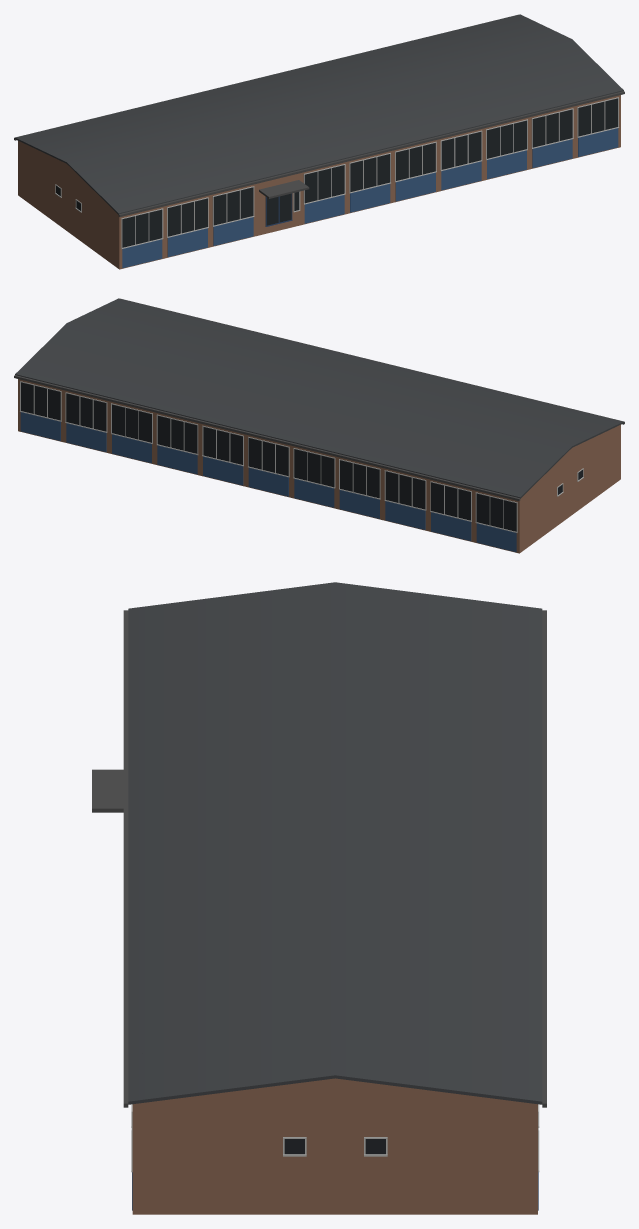
Rendered from context.school.sixties_school.glb.
The picture shows the model from 3 angles, top to bottom: view 1: azimuth 30°, elevation 25°; view 2: azimuth 150°, elevation 25°; view 3: azimuth 270°, elevation 25°; orthographic projection. The views are drawn at different scales.
Visible parts, largest first — view 1: main__clad_444, main__paint_223, main__brick_975, main__paint_468, main__paint_ccc, main__steel_555; view 2: main__clad_444, main__paint_223, main__brick_975, main__paint_468, main__paint_ccc, main__steel_555; view 3: main__clad_444, main__brick_975, main__steel_555.
Part boxes in pixels (x1,y1,x2,y2): main__clad_444: (15, 14, 623, 214); main__paint_223: (56, 98, 617, 247); main__brick_975: (18, 95, 620, 269); main__paint_468: (122, 128, 618, 268); main__paint_ccc: (55, 97, 619, 248); main__steel_555: (14, 14, 624, 216); main__clad_444: (15, 298, 623, 498); main__paint_223: (21, 382, 582, 531); main__brick_975: (18, 379, 620, 553); main__paint_468: (20, 412, 516, 552); main__paint_ccc: (19, 381, 583, 532); main__steel_555: (14, 298, 624, 500); main__clad_444: (128, 582, 542, 1104); main__brick_975: (132, 1078, 537, 1214); main__steel_555: (92, 610, 546, 1107).
Bounding box in the file's own units: 40.3 × 5.38 × 15.71.
